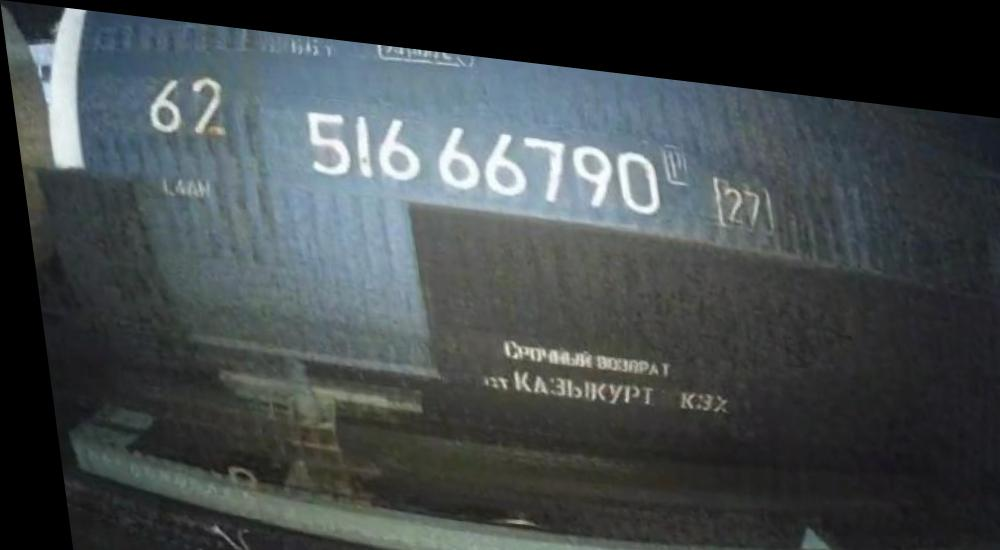Wagon-number: (298, 95, 666, 207)
